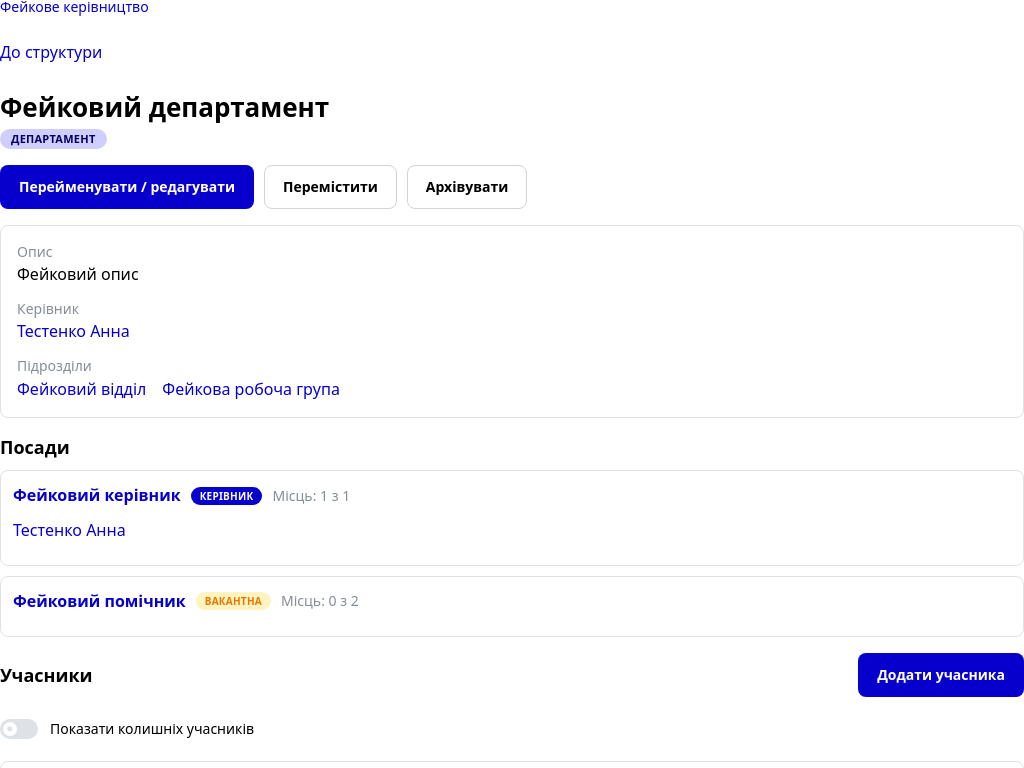
OrgUnitPage › explains a blocked archive
Click the button "Архівувати".
click(467, 187)  # box top-left (407, 165), bottom-right (527, 209)
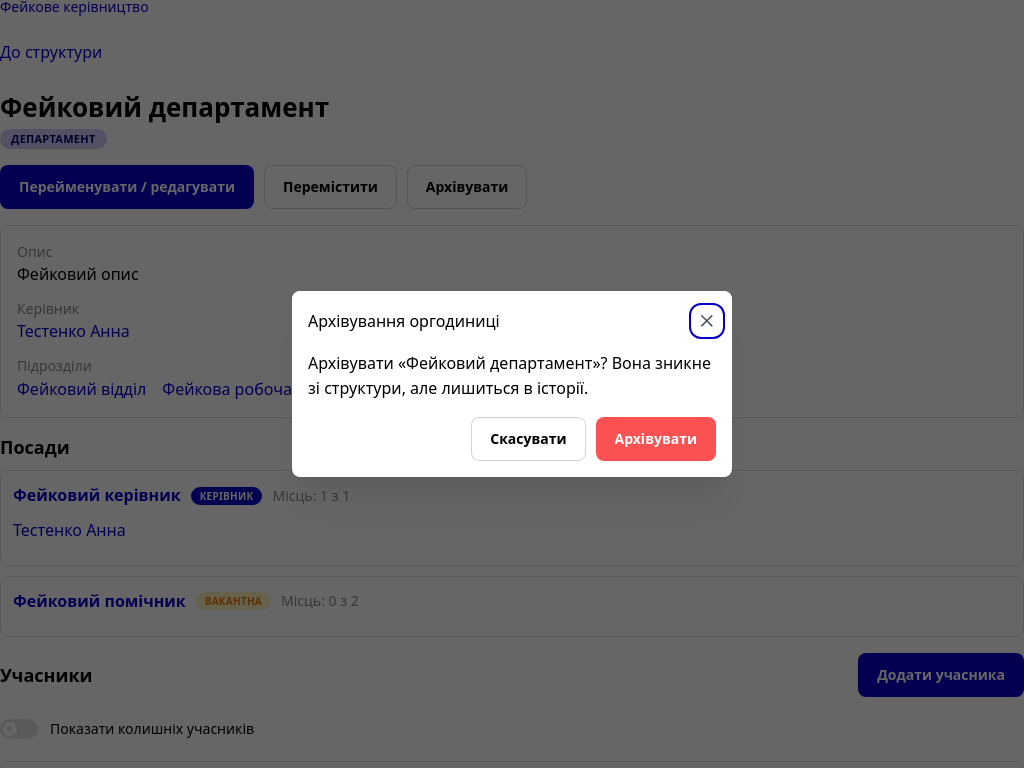
Click the button "Архівувати".
click(656, 439)  # box top-left (596, 417), bottom-right (716, 461)
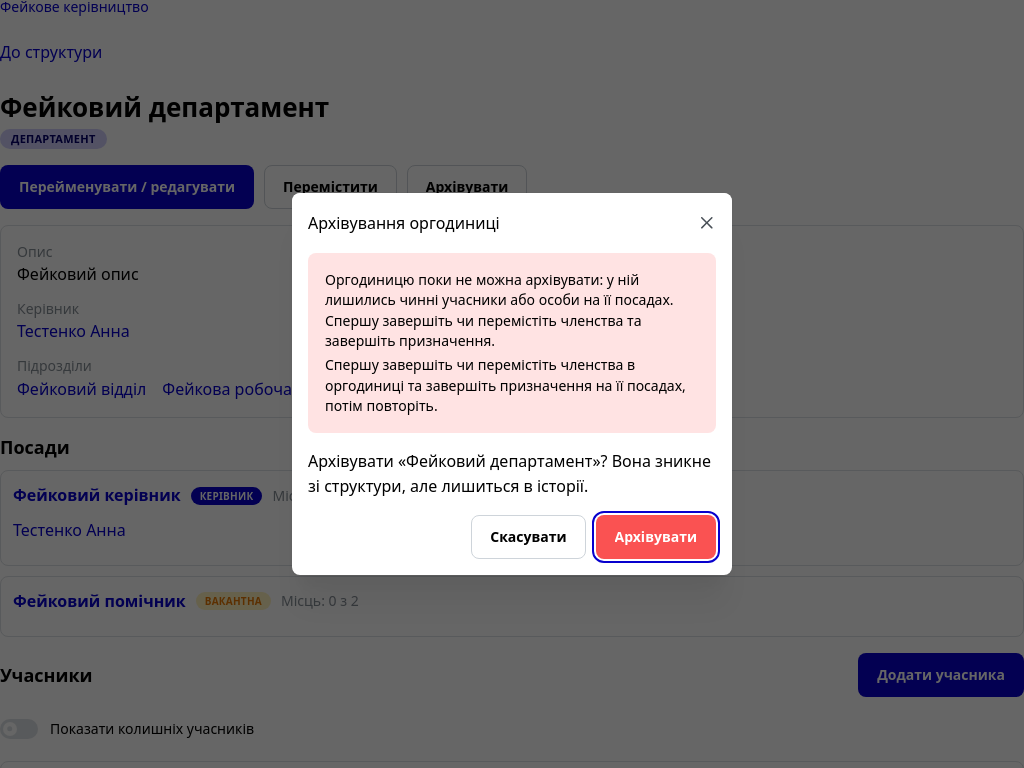
Expected: the text "Оргодиницю поки не можна архівувати" is shown, top-left (325, 270), bottom-right (674, 350)
Expected: the text "членства в оргодиниці" is shown, top-left (325, 355), bottom-right (686, 415)
